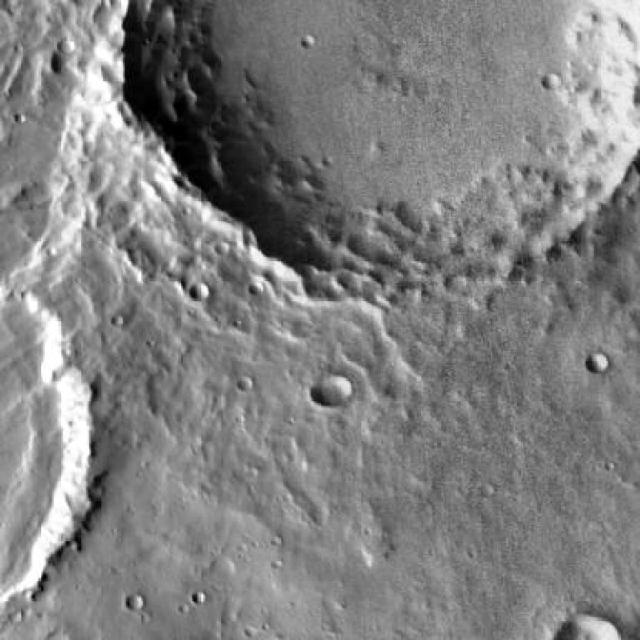crater: (134, 0, 640, 280), (0, 288, 88, 606), (312, 372, 352, 408), (585, 349, 610, 371), (538, 72, 562, 92), (187, 283, 207, 302), (124, 591, 144, 609), (56, 34, 76, 51)
